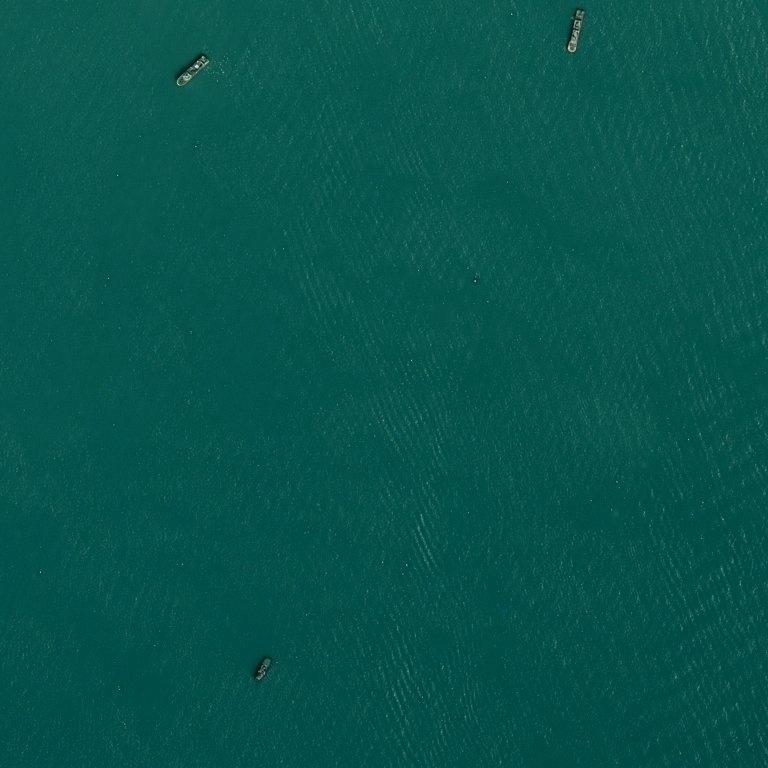ship: (137, 55, 173, 89), (253, 657, 273, 683), (528, 28, 549, 36)
